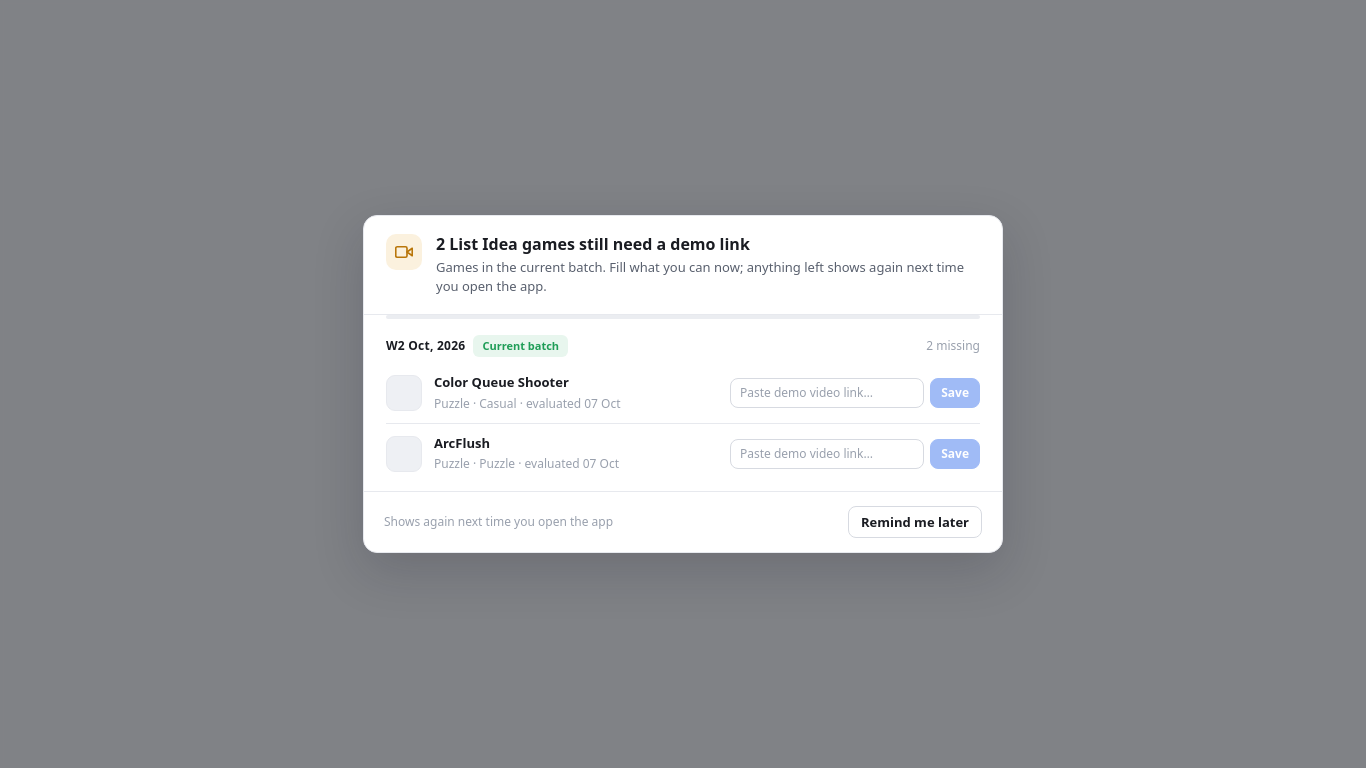
MissingDemoPrompt › keeps the row and says so when the save fails
Expected: the dialog is shown, [363,215,1003,553]
Type "https://x" into the field with placeholder "Paste demo video link…" next to "Puzzle · Casual · evaluated 07 Oct". click: point(827, 393)
box: [730,378,924,408]
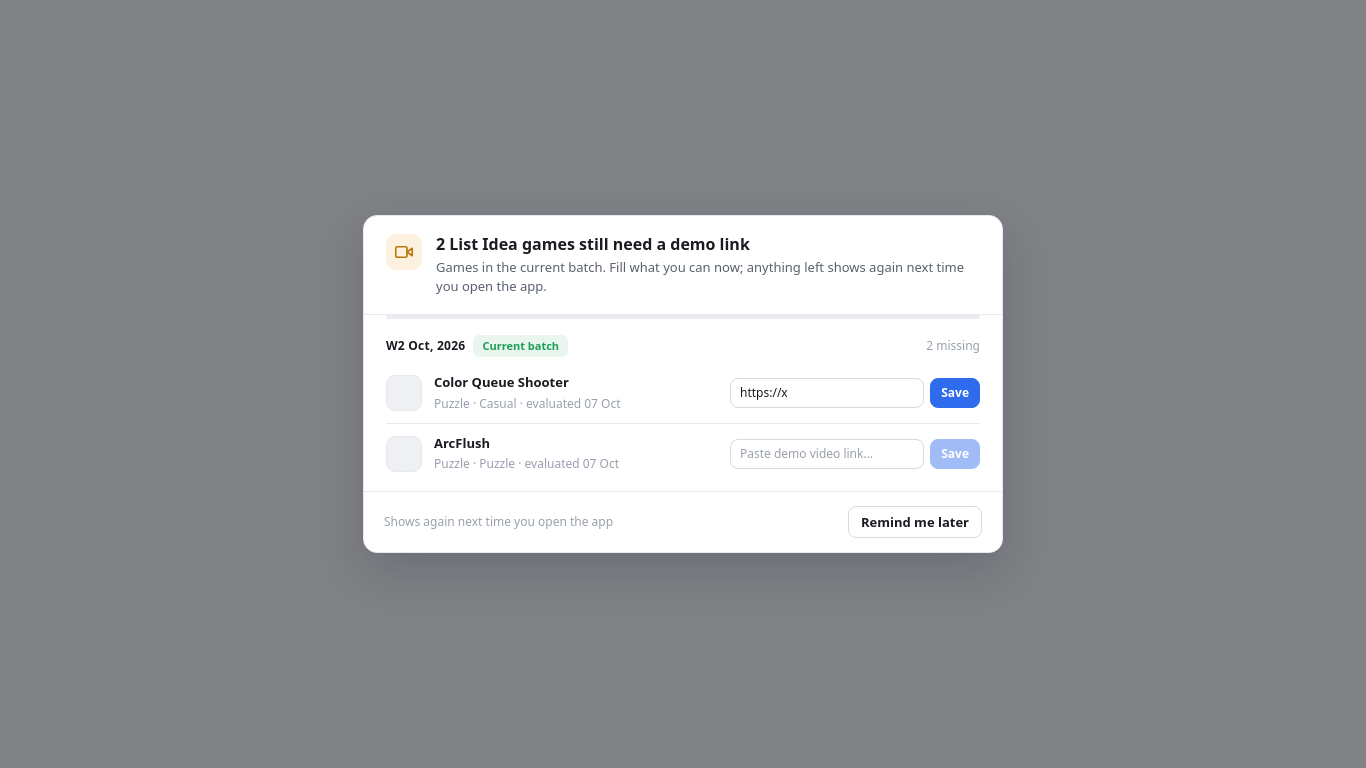
Click the button with aria-label "Save demo link for ". click: point(955, 393)
box: [930,378,980,408]
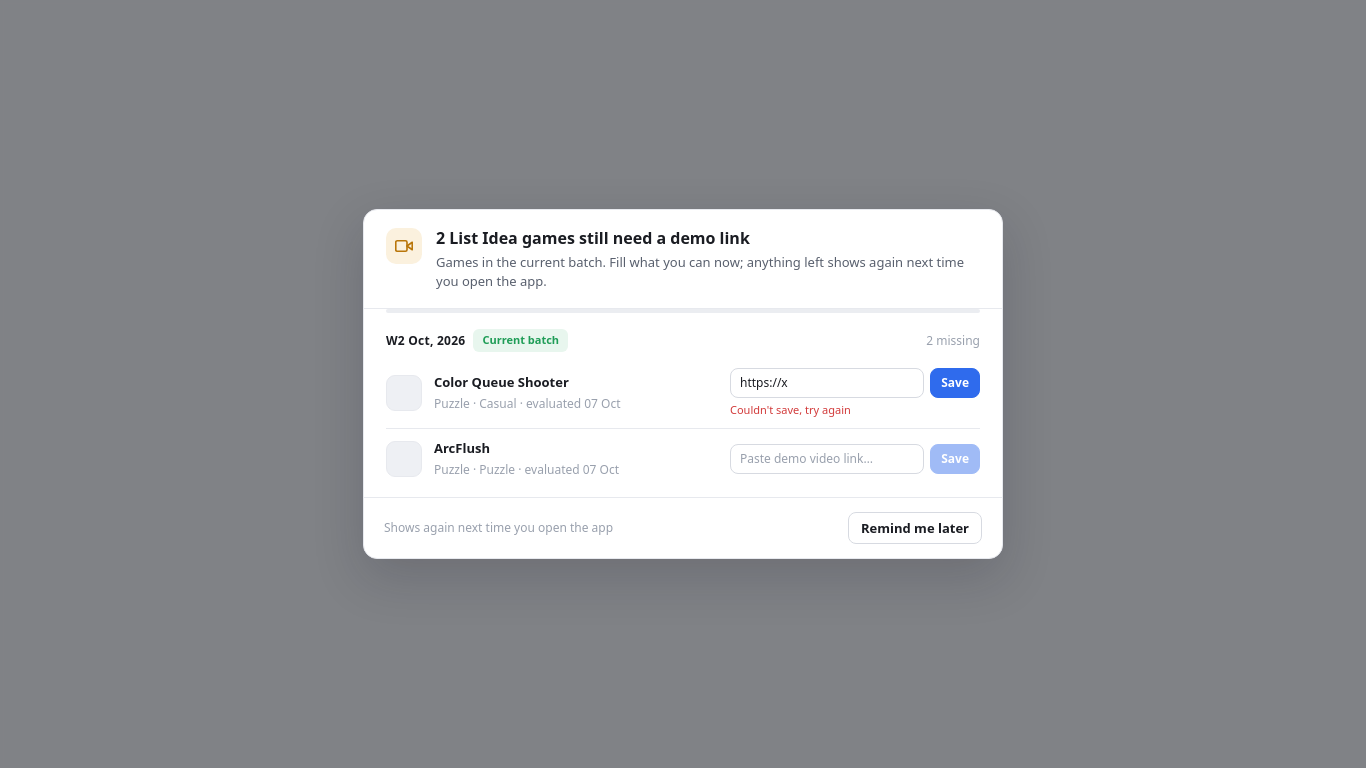
Expected: the text "Color Queue Shooter" is shown, [434,373,569,391]
Now the text "Couldn't save, try again" is shown, box [730,402,851,417]
